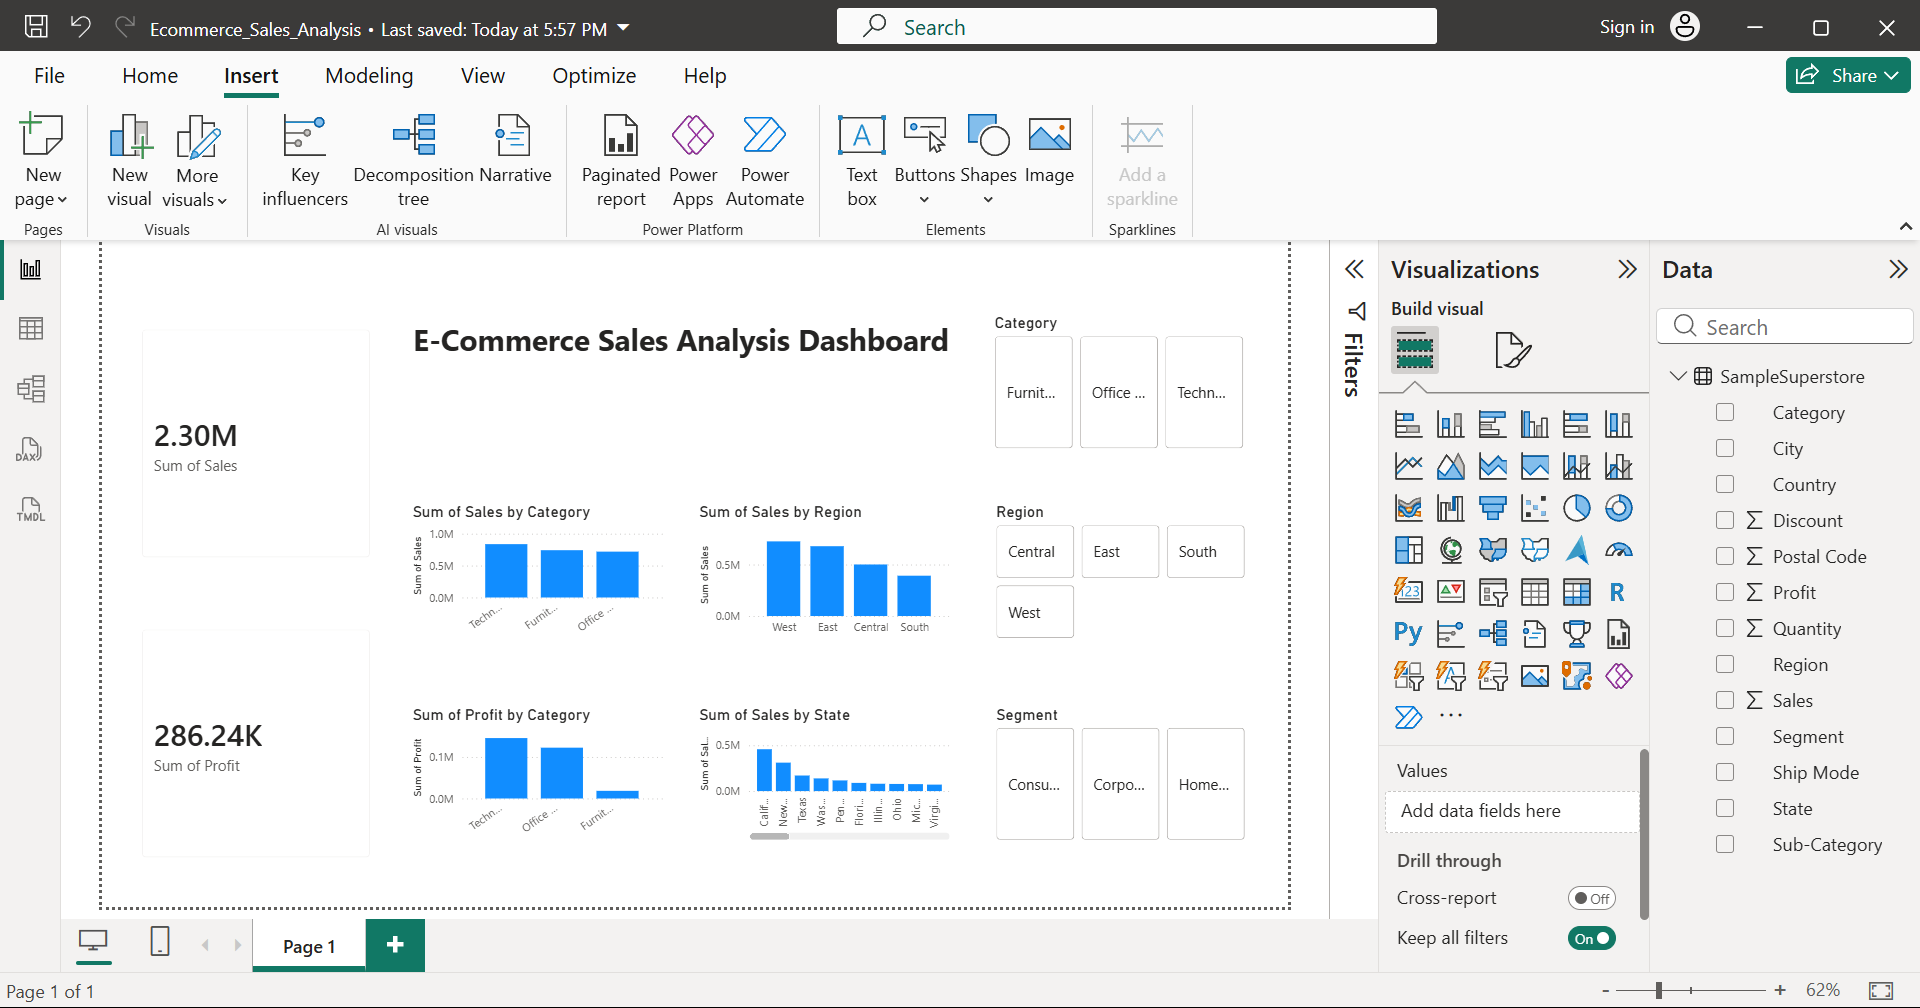

What the dashboard file says about the page in this screenshot:
{"tool":"powerbi","page":{"name":"Page 1","canvas":[1280,720],"ordinal":0},"visuals":[{"type":"cardVisual","fields":{"Data":["Sum(SampleSuperstore.Sales)"]},"box":[25.9,79.3,280.1,280.1],"z":0},{"type":"cardVisual","fields":{"Data":["Sum(SampleSuperstore.Profit)"]},"box":[25.9,403.2,280.1,280.1],"z":1000},{"type":"clusteredColumnChart","fields":{"Category":["SampleSuperstore.Category"],"Y":["Sum(SampleSuperstore.Sales)"]},"box":[330.3,283.4,280.1,152.2],"z":2000},{"type":"clusteredColumnChart","fields":{"Category":["SampleSuperstore.Category"],"Y":["Sum(SampleSuperstore.Profit)"]},"box":[330.3,502,280.1,150.6],"z":3000},{"type":"clusteredColumnChart","fields":{"Category":["SampleSuperstore.State"],"Y":["Sum(SampleSuperstore.Sales)"]},"box":[639.6,502,280.1,150.6],"z":4000},{"type":"clusteredColumnChart","fields":{"Category":["SampleSuperstore.Region"],"Y":["Sum(SampleSuperstore.Sales)"]},"box":[639.6,283.4,280.1,152.2],"z":5000},{"type":"advancedSlicerVisual","fields":{"Values":["SampleSuperstore.Region"]},"box":[960.2,283.4,280.1,152.2],"z":6000},{"type":"advancedSlicerVisual","fields":{"Values":["SampleSuperstore.Category"]},"box":[958.6,79.3,280.1,150.6],"z":6001},{"type":"advancedSlicerVisual","fields":{"Values":["SampleSuperstore.Segment"]},"box":[960.2,502,280.1,150.6],"z":6002},{"type":"textbox","box":[330.3,79.3,589.4,127.9],"z":6003}]}

Visuals, with their boxes in screenshot pixels (x1, y1, x2, y2):
cardVisual - Sum(SampleSuperstore.Sales): (97,44,499,445)
cardVisual - Sum(SampleSuperstore.Profit): (97,508,499,910)
clusteredColumnChart - SampleSuperstore.Category x Sum(SampleSuperstore.Sales): (534,336,935,555)
clusteredColumnChart - SampleSuperstore.Category x Sum(SampleSuperstore.Profit): (534,650,935,866)
clusteredColumnChart - SampleSuperstore.State x Sum(SampleSuperstore.Sales): (977,650,1379,866)
clusteredColumnChart - SampleSuperstore.Region x Sum(SampleSuperstore.Sales): (977,336,1379,555)
advancedSlicerVisual - SampleSuperstore.Region: (1437,336,1839,555)
advancedSlicerVisual - SampleSuperstore.Category: (1435,44,1837,260)
advancedSlicerVisual - SampleSuperstore.Segment: (1437,650,1839,866)
textbox: (534,44,1379,227)
